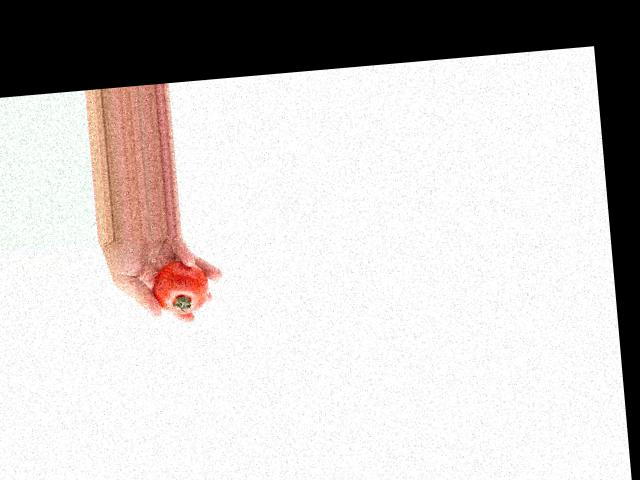tomato: (151, 258, 211, 315)
